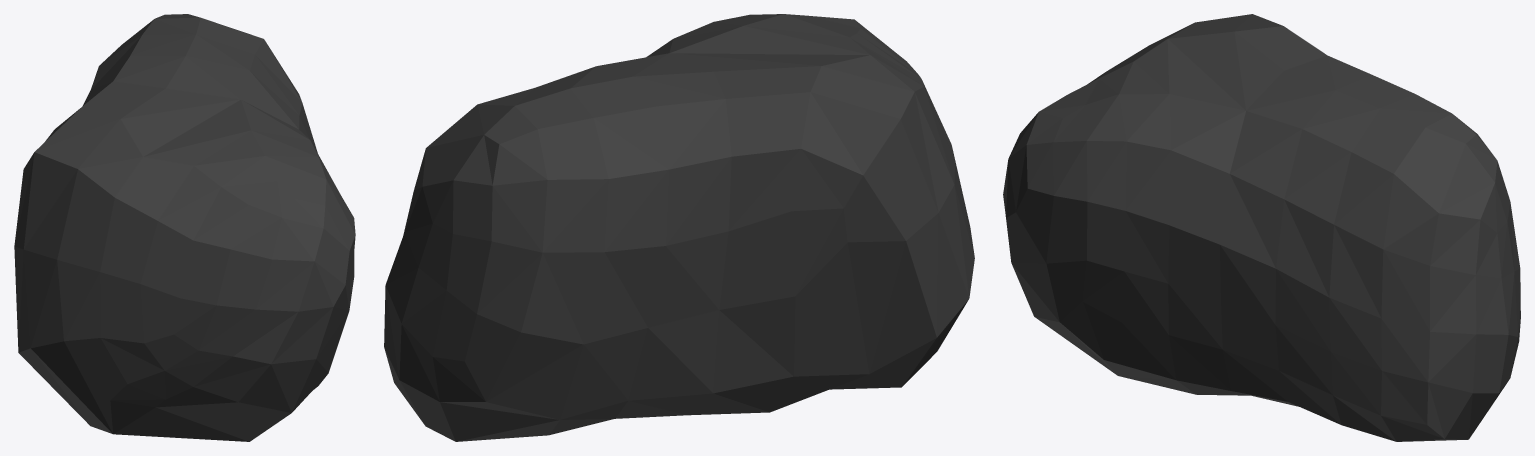
File: RFL_carpal6.glb
3 renders of one model, left to right at view 1: azimuth 30°, elevation 25°; view 2: azimuth 150°, elevation 25°; view 3: azimuth 270°, elevation 25°, orthographic. The views are drawn at different scales.
Parts seen in each view (by area): view 1: RFL_carpal6; view 2: RFL_carpal6; view 3: RFL_carpal6.
Boxes of the visible parts, left/top/right/bottom form: RFL_carpal6: left=14, top=14, right=355, bottom=441; RFL_carpal6: left=384, top=14, right=974, bottom=441; RFL_carpal6: left=1003, top=14, right=1520, bottom=441.
Bounding box in the file's own units: 7.54 × 5.54 × 8.45.
Materials: 1 (1 with a texture image).
